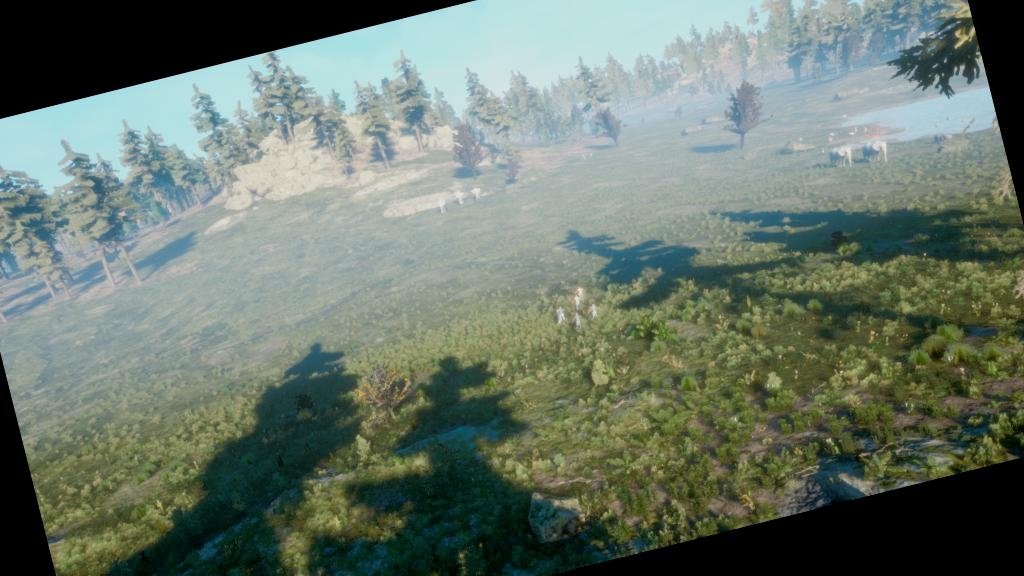elephant: (857, 125, 898, 171), (824, 138, 860, 176), (428, 190, 457, 225), (449, 184, 472, 214), (468, 180, 486, 204)
human: (518, 262, 612, 350)
